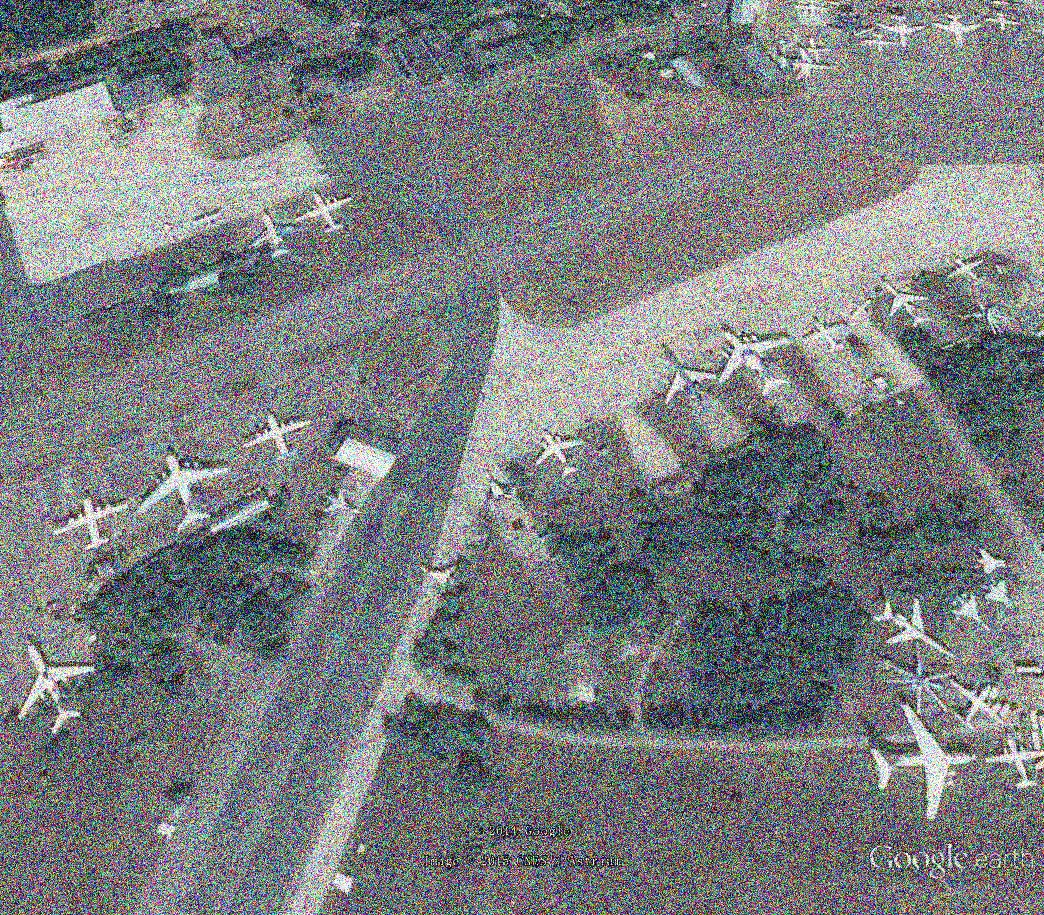aircraft: (865, 701, 987, 821), (15, 636, 102, 741), (134, 449, 233, 536), (874, 594, 959, 663), (717, 328, 793, 400), (656, 340, 723, 421), (50, 490, 134, 554), (240, 408, 316, 465), (982, 727, 1043, 792), (243, 205, 309, 264), (291, 184, 357, 241), (946, 678, 1010, 733), (532, 428, 586, 481), (882, 276, 933, 332), (775, 42, 835, 84), (874, 10, 930, 50), (931, 13, 986, 50), (969, 543, 1024, 580), (984, 577, 1026, 622), (802, 317, 850, 355), (953, 592, 994, 634), (827, 15, 875, 50), (944, 256, 989, 291), (481, 469, 515, 514), (321, 485, 363, 520), (418, 558, 460, 592), (795, 35, 833, 67), (982, 9, 1024, 37), (858, 30, 901, 56), (793, 0, 835, 21), (190, 207, 224, 232), (851, 297, 878, 321)
